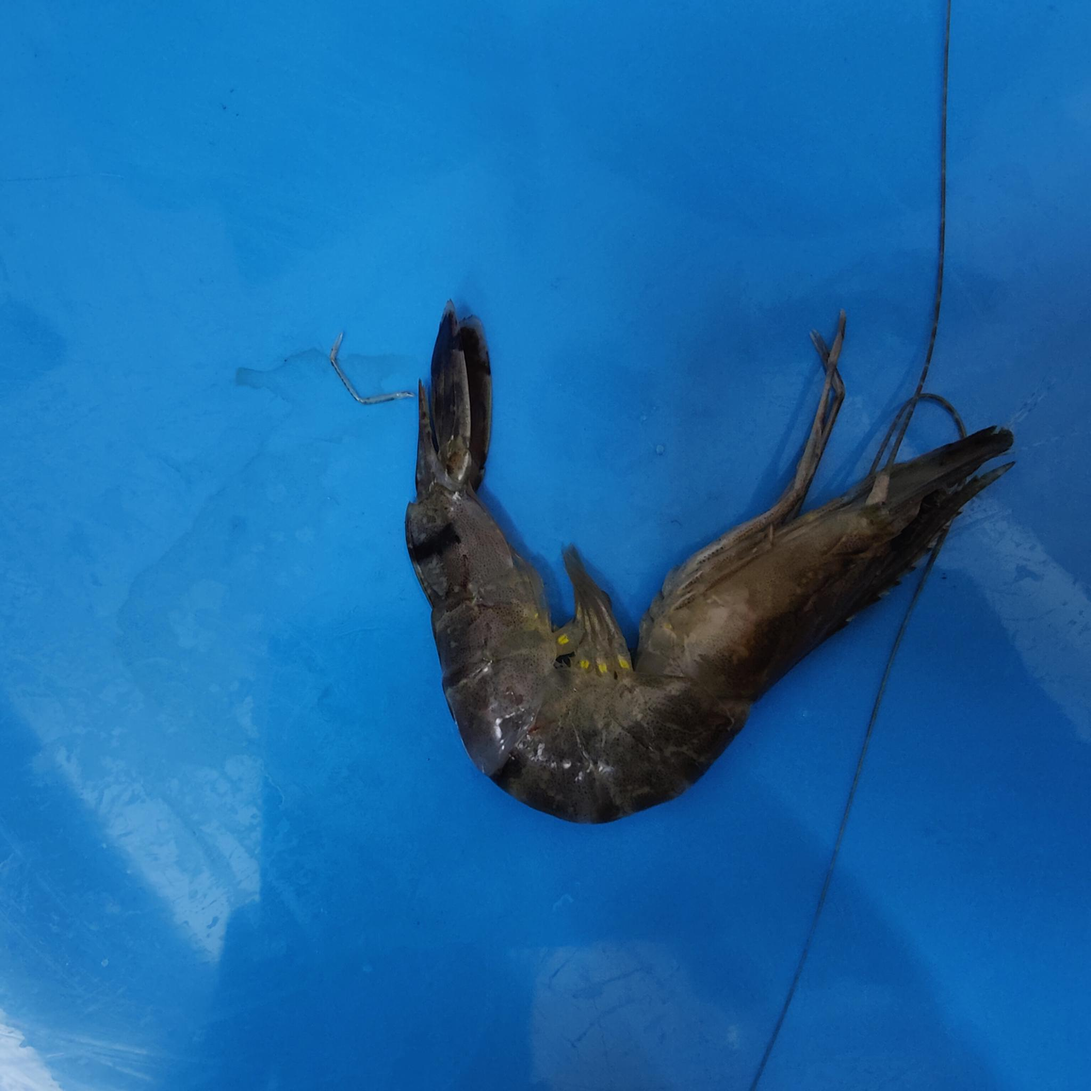whitespot: (729, 483, 924, 671)
